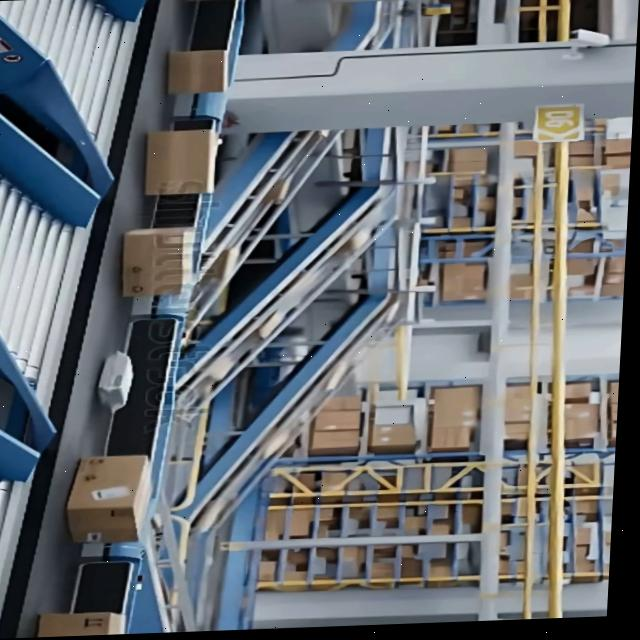product 1: (120, 224, 197, 297), (143, 127, 220, 195), (166, 48, 230, 94), (67, 452, 156, 483)
product 2: (95, 349, 137, 412)
